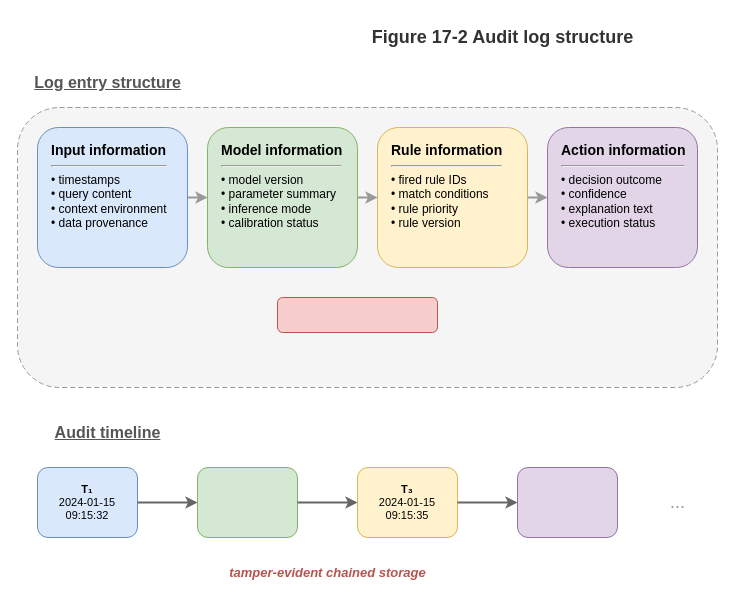
This 735x604 diagram has some shape labels left out. The shapes that lost their labels are listed below. From the top down, each one's box as (x1, y1, x2, y2) in pixels, then its label:
(276, 296, 438, 332): hash chain
(196, 466, 298, 538): T₂ 2024-01-15 09:15:33
(516, 466, 618, 538): T₄ 2024-01-15 09:15:36
